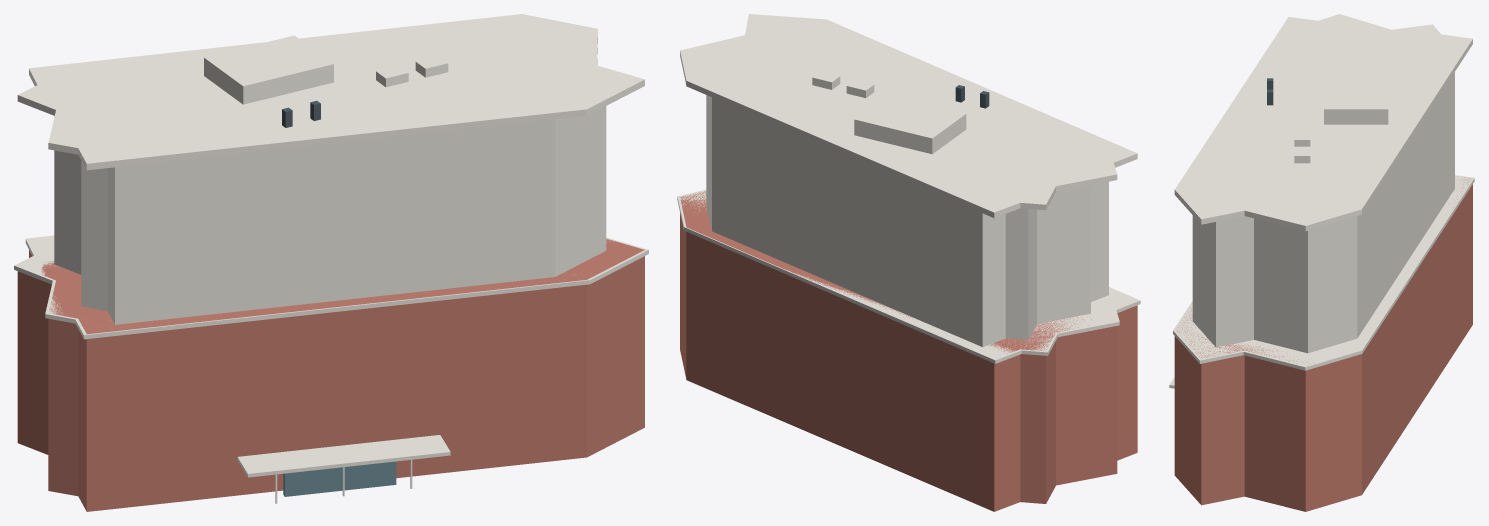
Rendered from ng_wing_hong_building.glb.
The picture shows the model from 3 angles, left to right: view 1: azimuth 30°, elevation 25°; view 2: azimuth 150°, elevation 25°; view 3: azimuth 270°, elevation 25°; orthographic projection. The views are drawn at different scales.
Visible parts, largest first — view 1: Ng Wing Hong Building_base, Ng Wing Hong Building_upper, Ng Wing Hong Building_parapet, Ng Wing Hong Building_roof_plant, Ng Wing Hong Building_band, Ng Wing Hong Building_canopy, Ng Wing Hong Building_door; view 2: Ng Wing Hong Building_base, Ng Wing Hong Building_upper, Ng Wing Hong Building_parapet, Ng Wing Hong Building_band, Ng Wing Hong Building_roof_plant; view 3: Ng Wing Hong Building_base, Ng Wing Hong Building_parapet, Ng Wing Hong Building_upper, Ng Wing Hong Building_band, Ng Wing Hong Building_roof_plant.
Boxes of the visible parts, x1=… form: Ng Wing Hong Building_base: x1=17, y1=238, x2=644, y2=511; Ng Wing Hong Building_upper: x1=54, y1=106, x2=606, y2=324; Ng Wing Hong Building_parapet: x1=17, y1=14, x2=644, y2=170; Ng Wing Hong Building_roof_plant: x1=204, y1=35, x2=333, y2=104; Ng Wing Hong Building_band: x1=14, y1=235, x2=648, y2=339; Ng Wing Hong Building_canopy: x1=237, y1=435, x2=450, y2=477; Ng Wing Hong Building_door: x1=283, y1=461, x2=396, y2=496; Ng Wing Hong Building_base: x1=680, y1=191, x2=1137, y2=511; Ng Wing Hong Building_upper: x1=706, y1=95, x2=1108, y2=347; Ng Wing Hong Building_parapet: x1=680, y1=14, x2=1137, y2=217; Ng Wing Hong Building_band: x1=677, y1=189, x2=1140, y2=363; Ng Wing Hong Building_roof_plant: x1=854, y1=95, x2=966, y2=154; Ng Wing Hong Building_base: x1=1174, y1=177, x2=1472, y2=511; Ng Wing Hong Building_parapet: x1=1174, y1=14, x2=1472, y2=231; Ng Wing Hong Building_upper: x1=1192, y1=72, x2=1454, y2=353; Ng Wing Hong Building_band: x1=1173, y1=175, x2=1474, y2=370; Ng Wing Hong Building_roof_plant: x1=1324, y1=73, x2=1388, y2=124.
Size of the model in its own units: 47.23 by 30.9 by 28.42.
